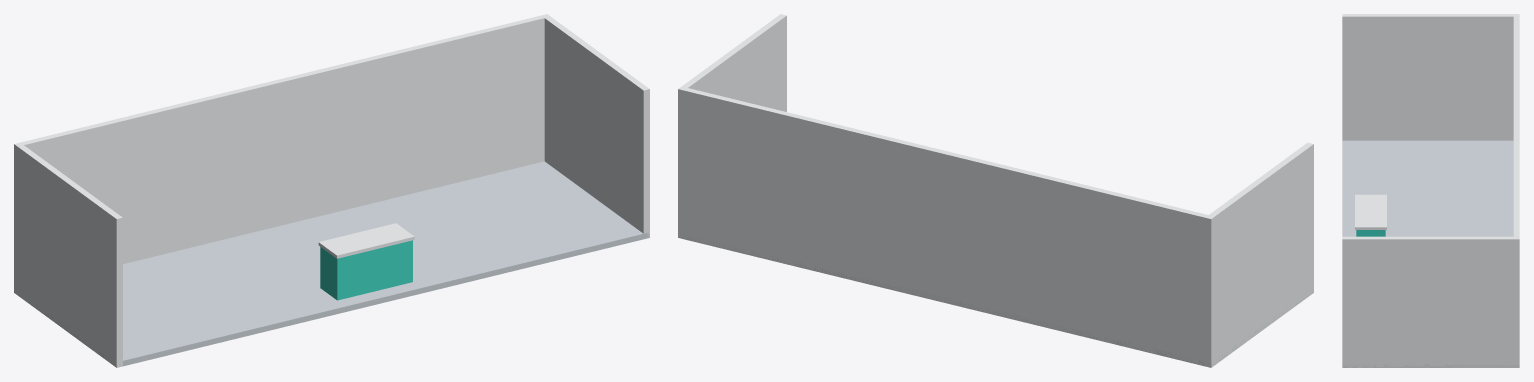
The picture shows the model from 3 angles, left to right: view 1: azimuth 30°, elevation 25°; view 2: azimuth 150°, elevation 25°; view 3: azimuth 270°, elevation 25°; orthographic projection. The views are drawn at different scales.
Parts seen in each view (by area): view 1: Exhibition Booth Concept; view 2: Exhibition Booth Concept; view 3: Exhibition Booth Concept.
Boxes of the visible parts, x1,y1,x2,y2 form: Exhibition Booth Concept: [14, 14, 649, 367]; Exhibition Booth Concept: [678, 14, 1313, 367]; Exhibition Booth Concept: [1342, 14, 1519, 367].
Bounding box in the file's own units: 12 × 3.2 × 4.
